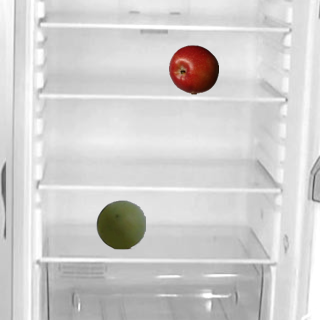Apple Braeburn: (168, 44, 218, 94)
Grape White 4: (95, 199, 145, 249)
